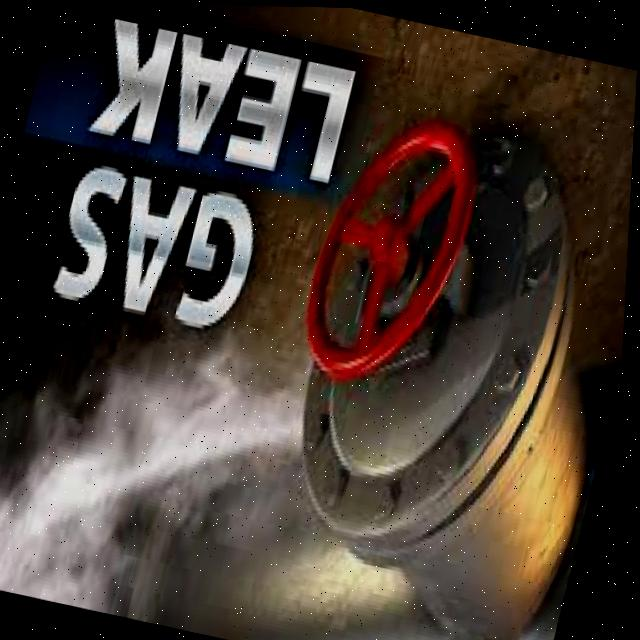corrosion: (114, 294, 369, 531)
